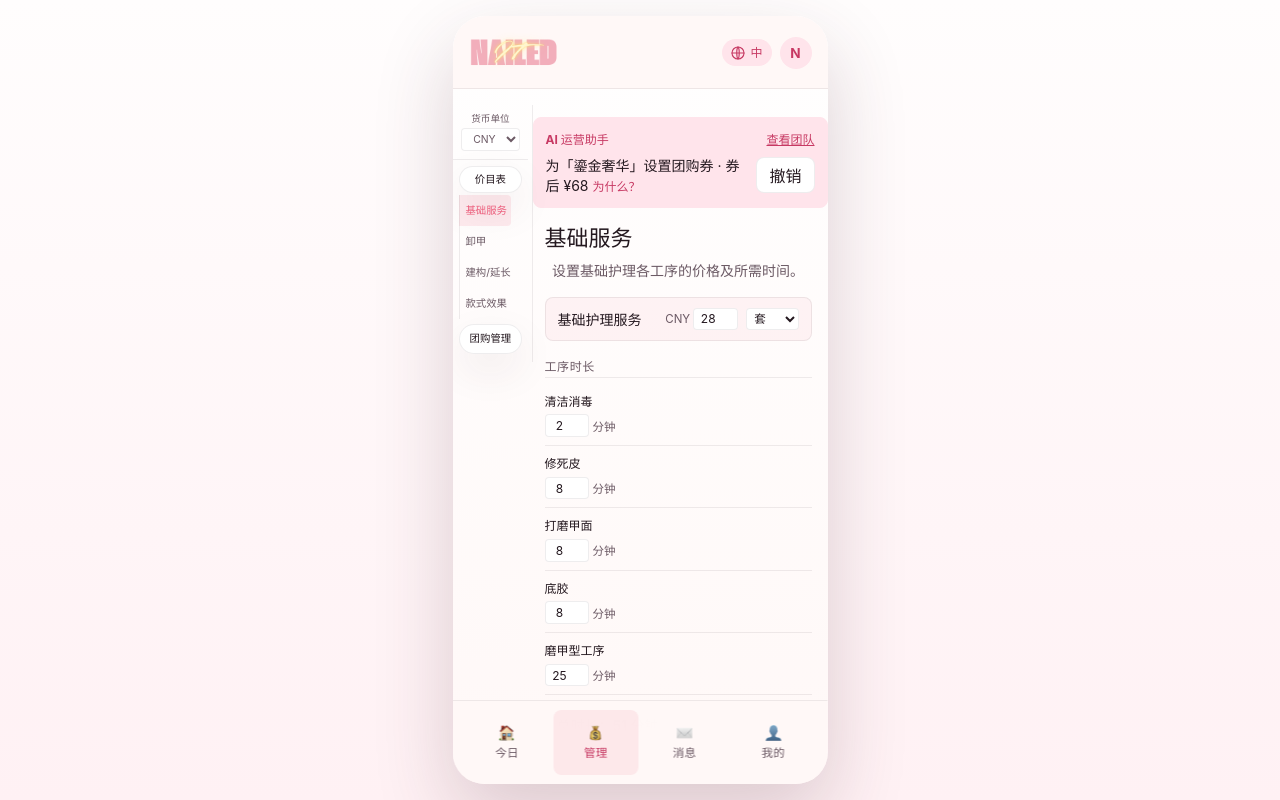
Test: MerchantManagePage › opens the add groupbuy wizard from the groupbuy panel
Check: the number field named "基础护理服务 单价" is shown, box [693, 308, 738, 330]
Click the button "团购管理" at (490, 339), box [459, 324, 522, 354]
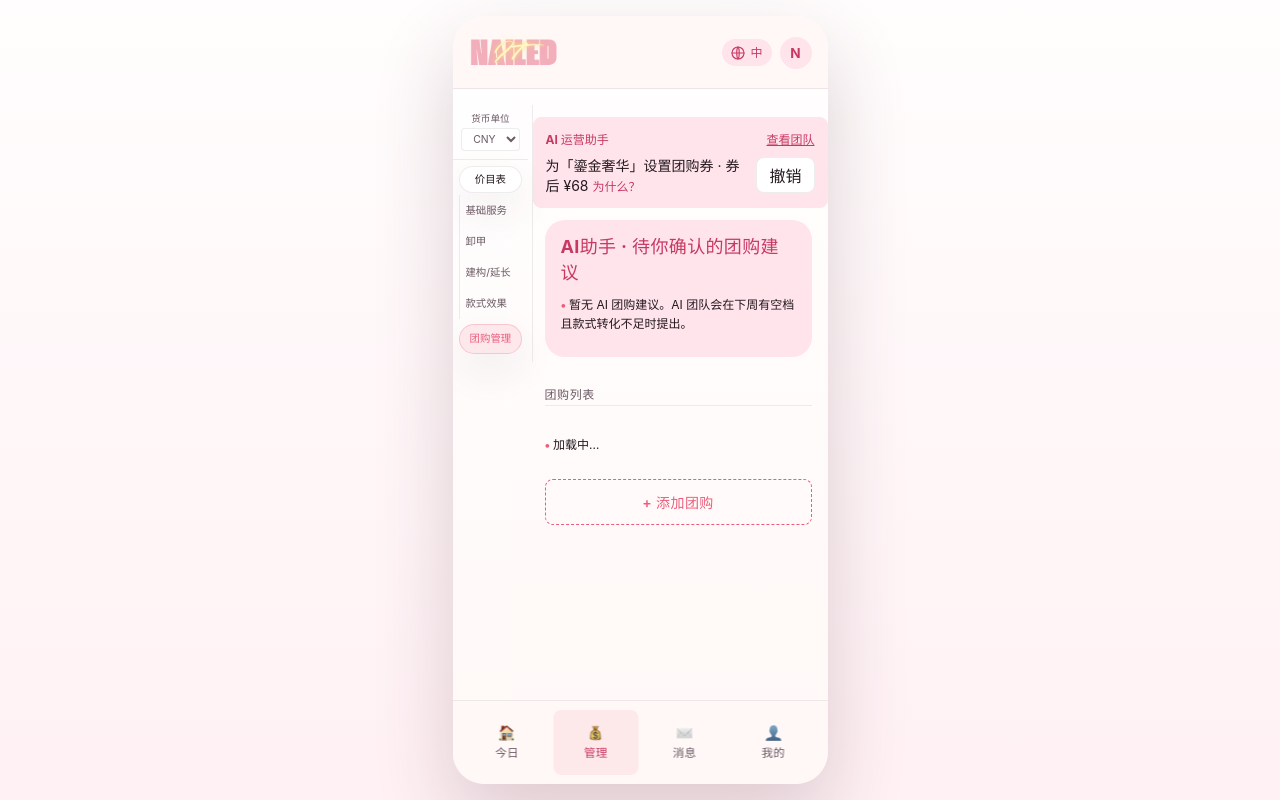
Click the button "+ 添加团购" at (678, 502), box [544, 479, 812, 525]
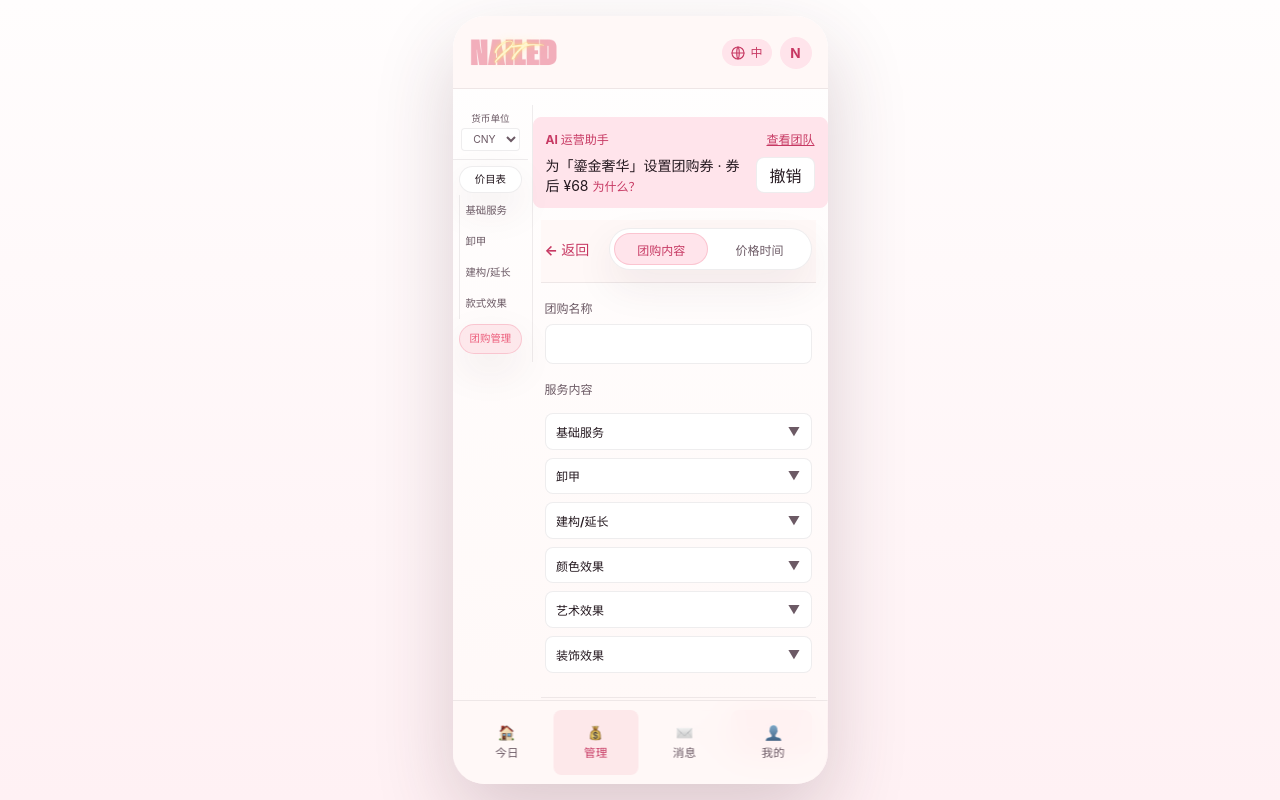
Check: the button "← 返回" is shown, box [544, 231, 597, 267]
Check: the text "服务内容" is shown, box [544, 382, 592, 397]
